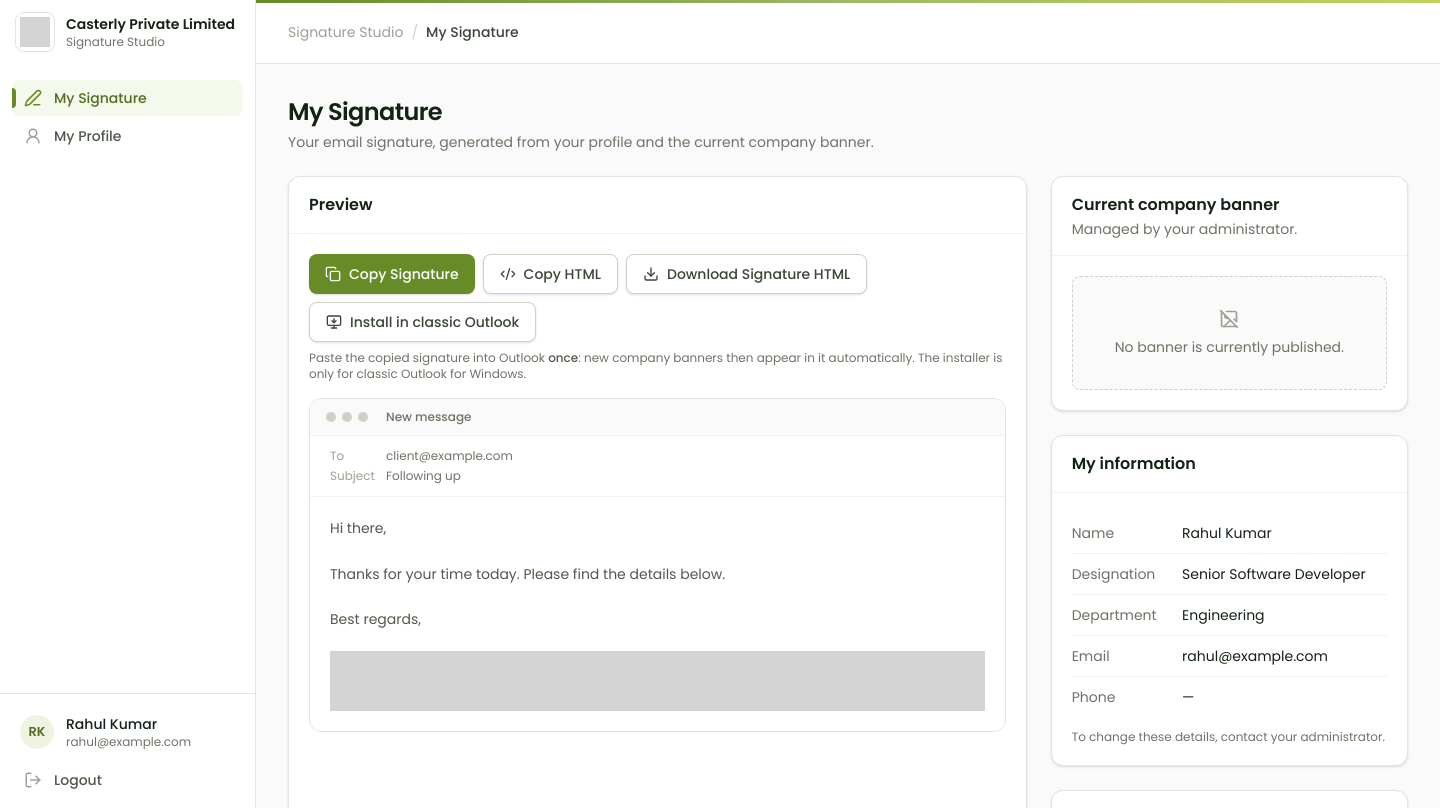
it: Install in classic Outlook › downloads the personal installer keeping the server-provided file name
What coordinates should you click on to do the following:
click the button "Install in classic Outlook"
I would click on:
 (423, 322)
Its box is [309, 302, 536, 342].
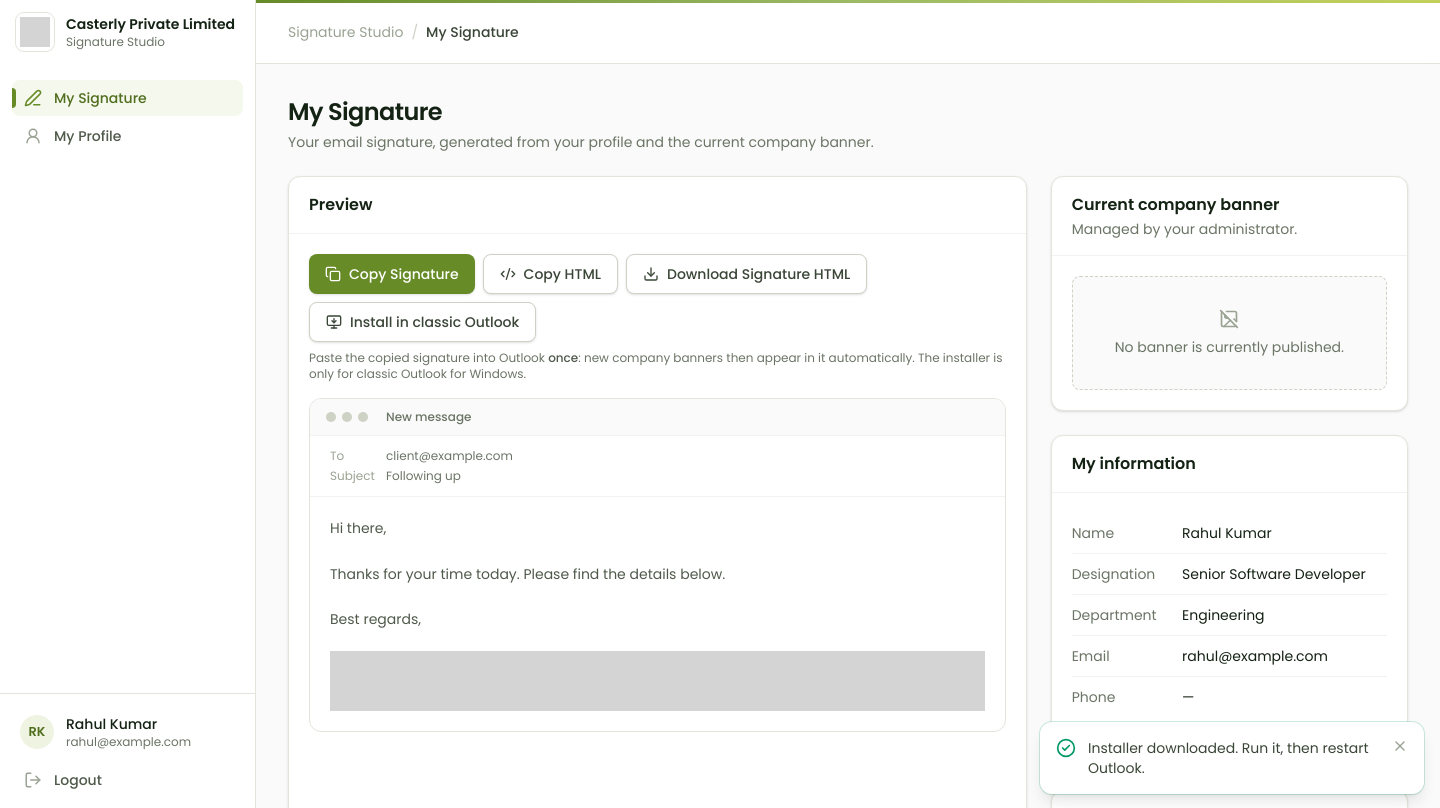
Result: the text "Installer downloaded. Run it, then restart Outlook." is shown at [1088, 738, 1380, 778]
